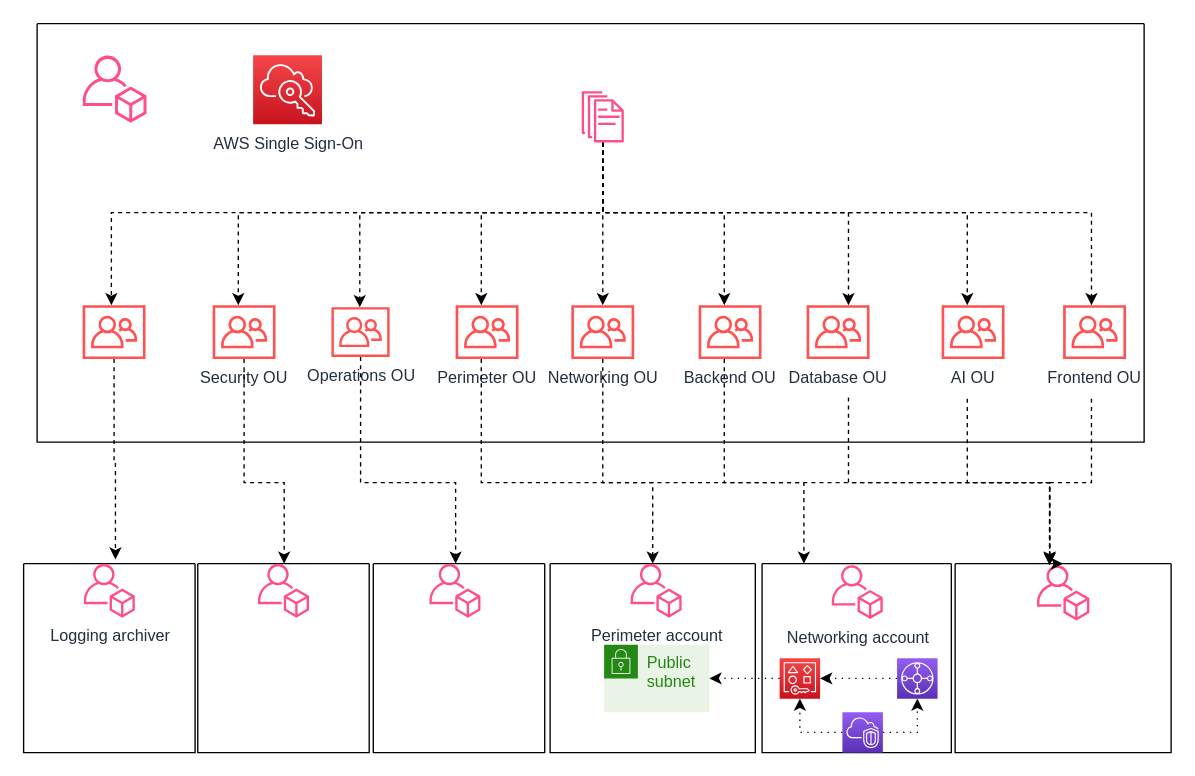
Some shapes in this 1195 by 776 pixel diagram are drawn without their labels. The centre of each missing label's shape, as x and y in pixels:
"Functional accounts" belongs at (1062,592).
"Logging OU" belongs at (113,331).
"Operations account" belongs at (454,590).
"Organization (root) management account" belongs at (114,88).
"Security account" belongs at (282,590).
"Service Control Policies" belongs at (602,116).
